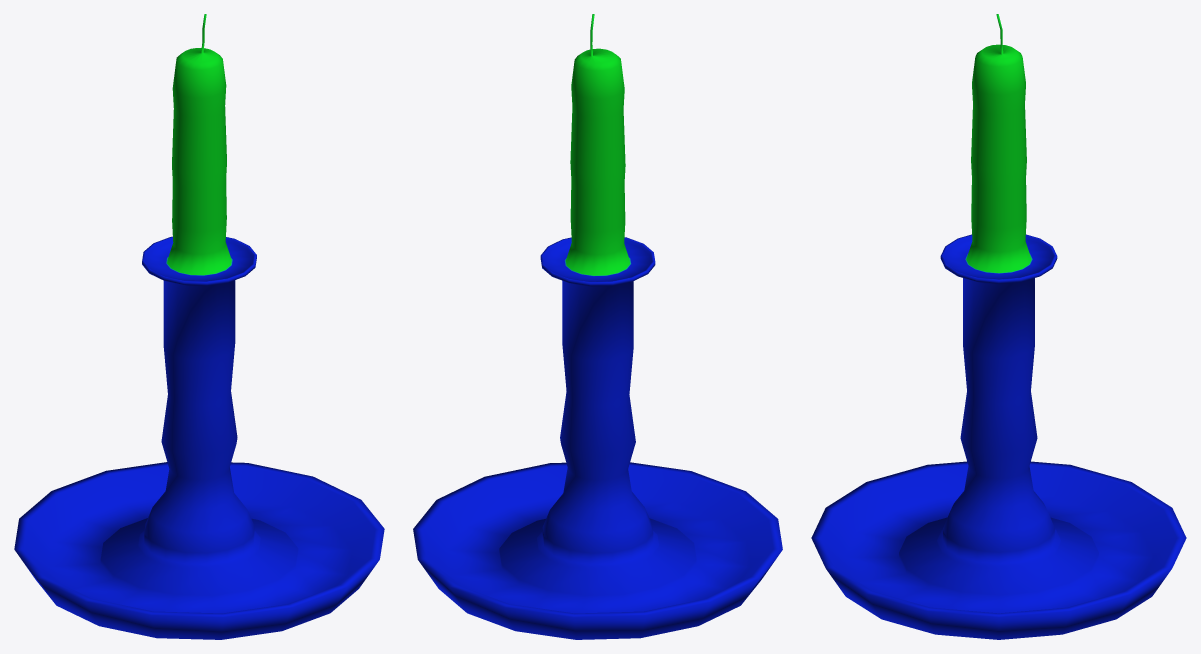
File: Candle_low.fbx
3 renders of one model, left to right at view 1: azimuth 30°, elevation 25°; view 2: azimuth 150°, elevation 25°; view 3: azimuth 270°, elevation 25°, orthographic.
Parts seen in each view (by area): view 1: Candle_low; view 2: Candle_low; view 3: Candle_low.
Part boxes in pixels (x1,y1,x2,y2): Candle_low: (14, 14, 384, 639); Candle_low: (413, 14, 782, 639); Candle_low: (811, 14, 1186, 639).
Size of the model in its own units: 12.66 by 20.77 by 12.66.
